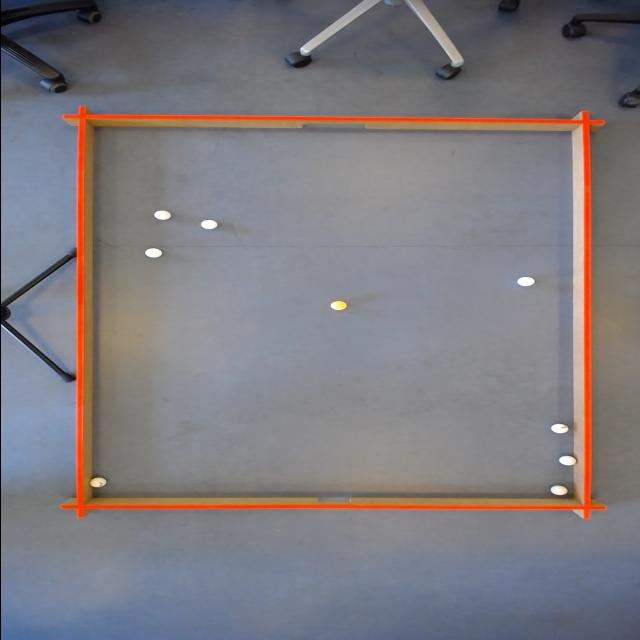orange_ball: (327, 300, 349, 310)
white_ball: (548, 422, 570, 435), (86, 476, 108, 489), (549, 484, 569, 498), (554, 454, 576, 466), (196, 218, 218, 230), (515, 276, 536, 288), (144, 247, 164, 259), (152, 210, 172, 220)
